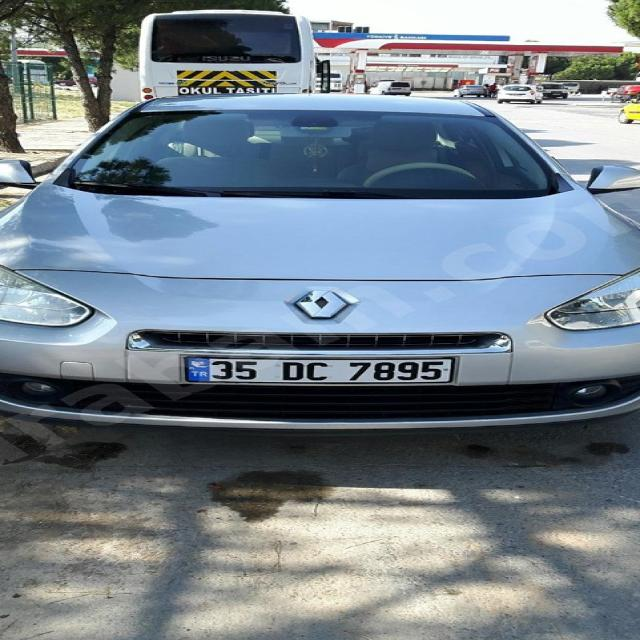license_plate: (184, 356, 455, 383)
